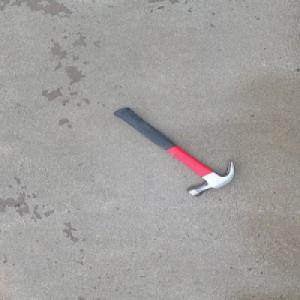Hammer: (111, 106, 236, 198)
